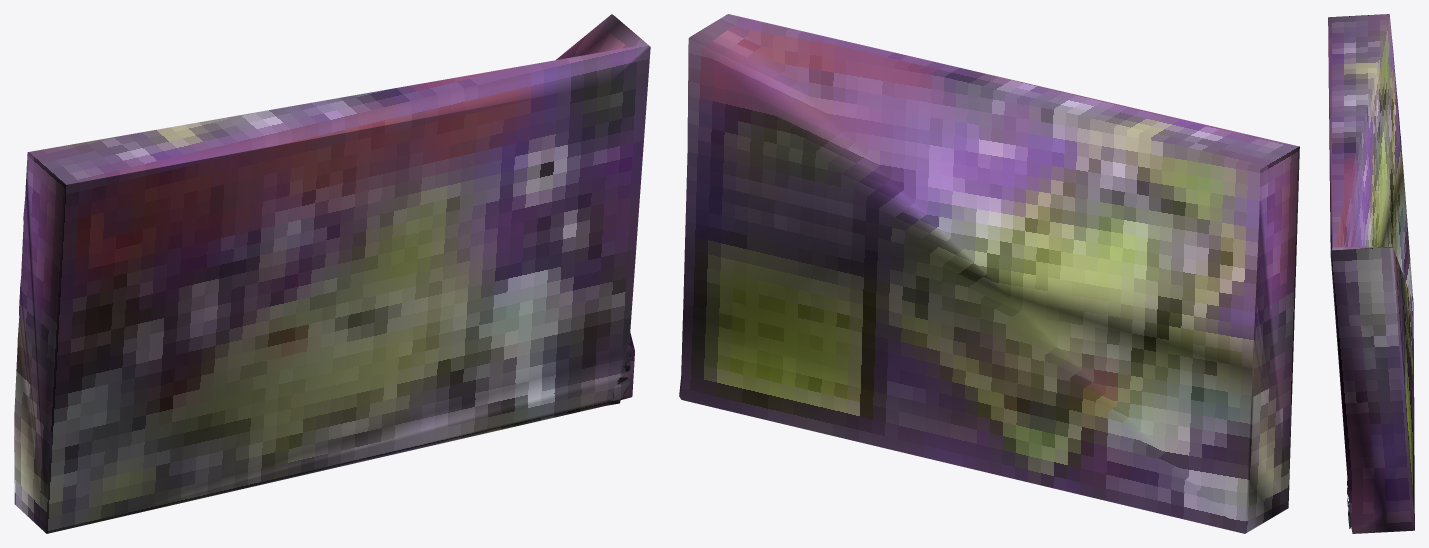
File: Nightmare_Before_Christmas_Collectors_Edition_Operation-low.glb
The picture shows the model from 3 angles, left to right: view 1: azimuth 30°, elevation 25°; view 2: azimuth 150°, elevation 25°; view 3: azimuth 270°, elevation 25°; orthographic projection. The views are drawn at different scales.
Parts seen in each view (by area): view 1: Nightmare_Before_Christmas_Collectors_Edition_Operation; view 2: Nightmare_Before_Christmas_Collectors_Edition_Operation; view 3: Nightmare_Before_Christmas_Collectors_Edition_Operation.
Part boxes in pixels (<box>): Nightmare_Before_Christmas_Collectors_Edition_Operation: <box>14,14,650,533</box>; Nightmare_Before_Christmas_Collectors_Edition_Operation: <box>679,14,1299,533</box>; Nightmare_Before_Christmas_Collectors_Edition_Operation: <box>1328,14,1414,533</box>.
Size of the model in its own units: 0.4427 by 0.266 by 0.0708.
1 material, 1 textured.
